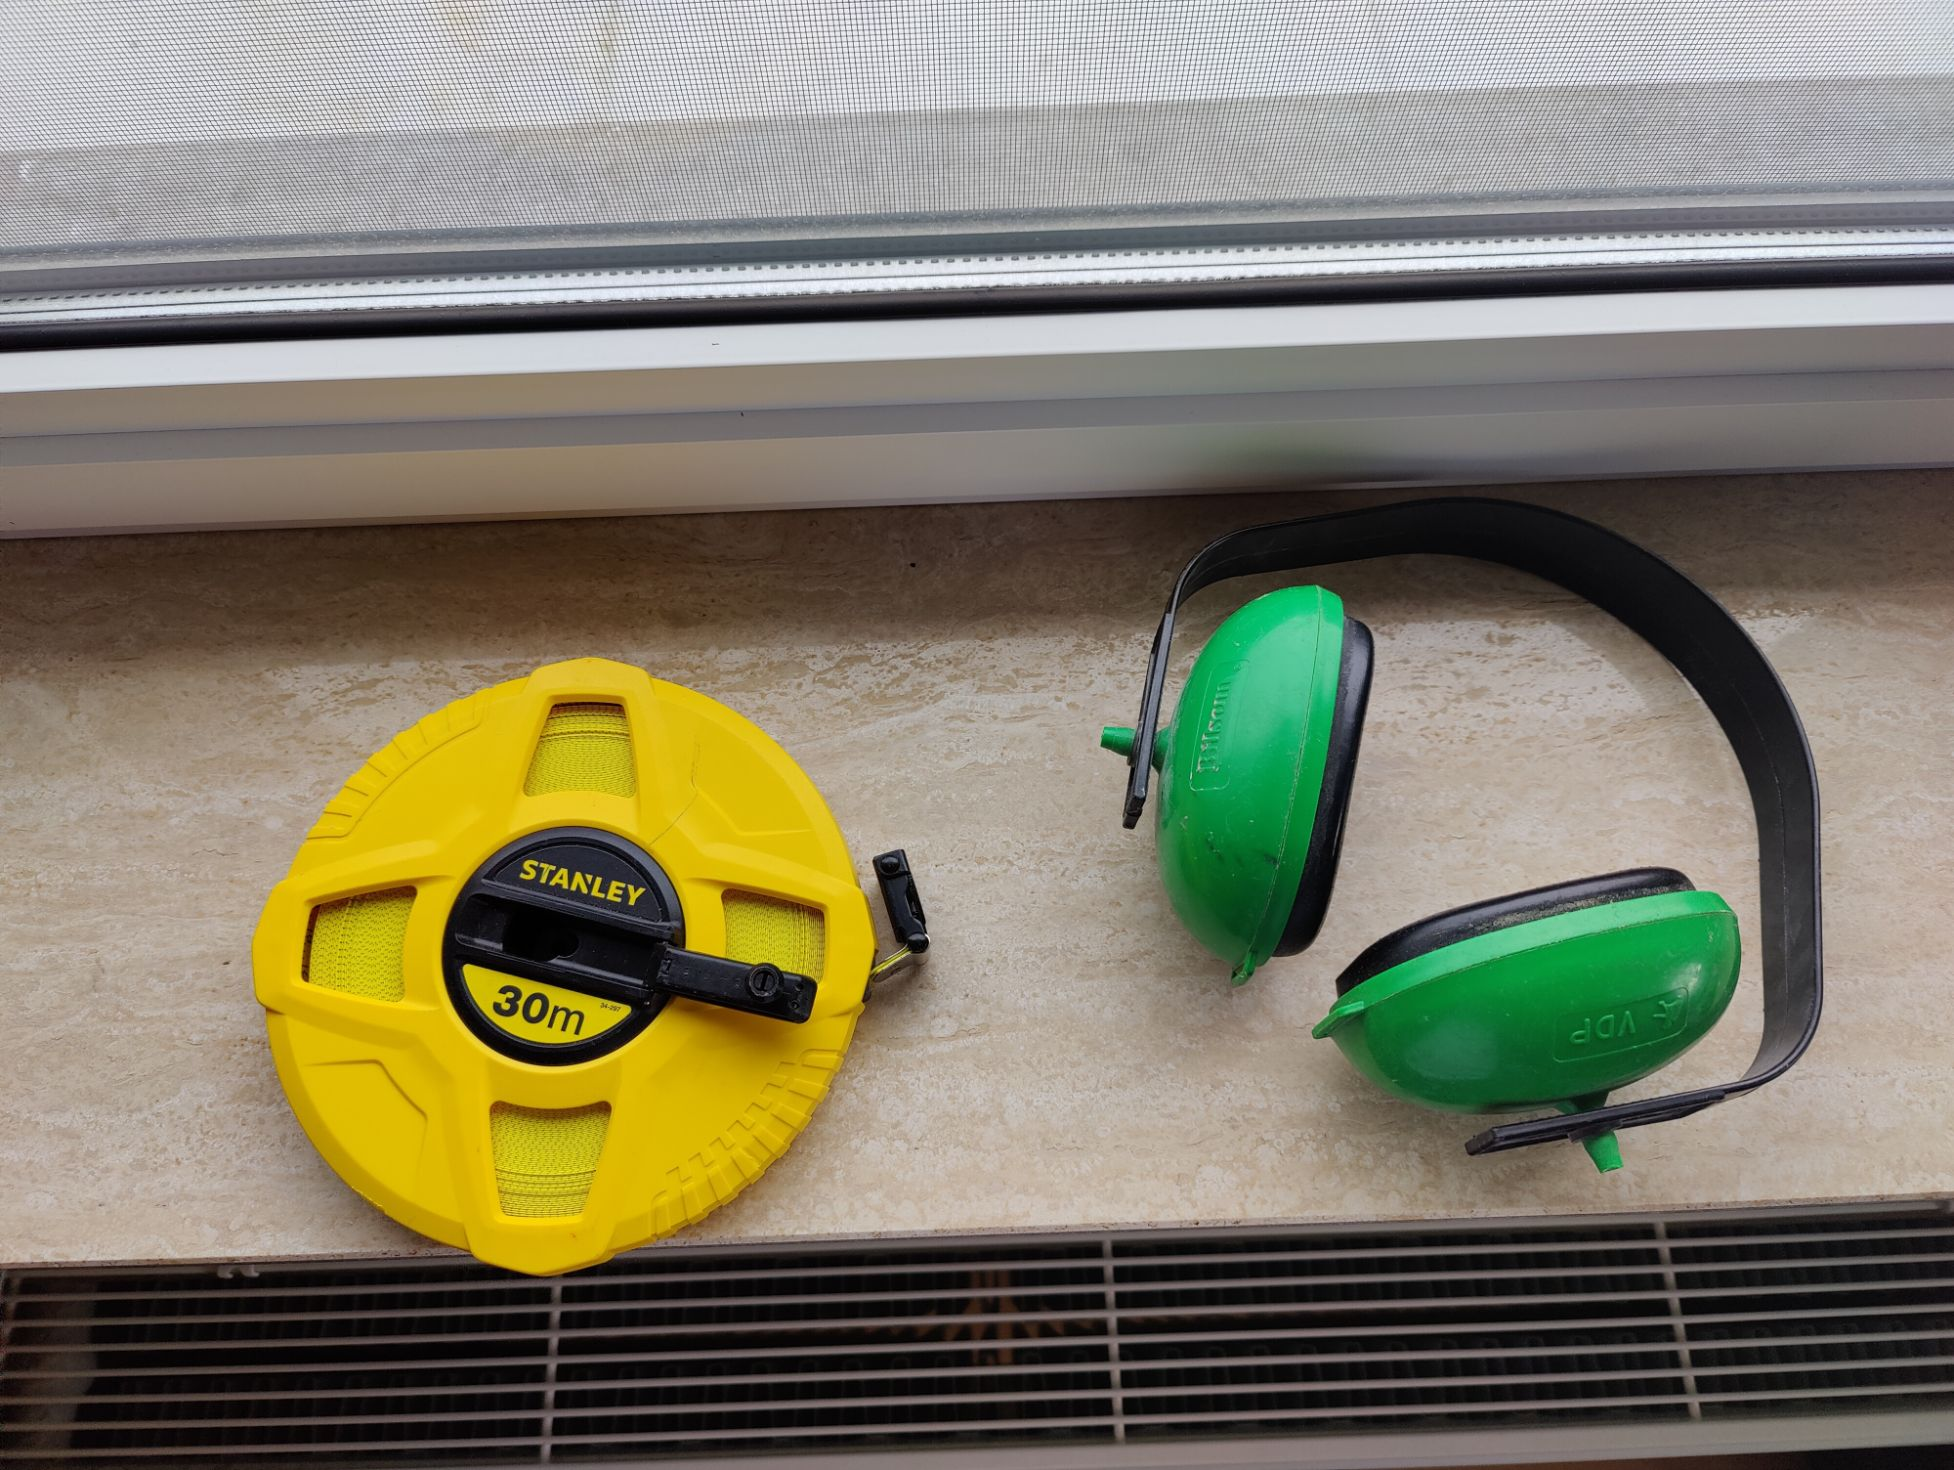headphones: (1102, 503, 1831, 1180)
tapemeasure: (258, 650, 925, 1282)
